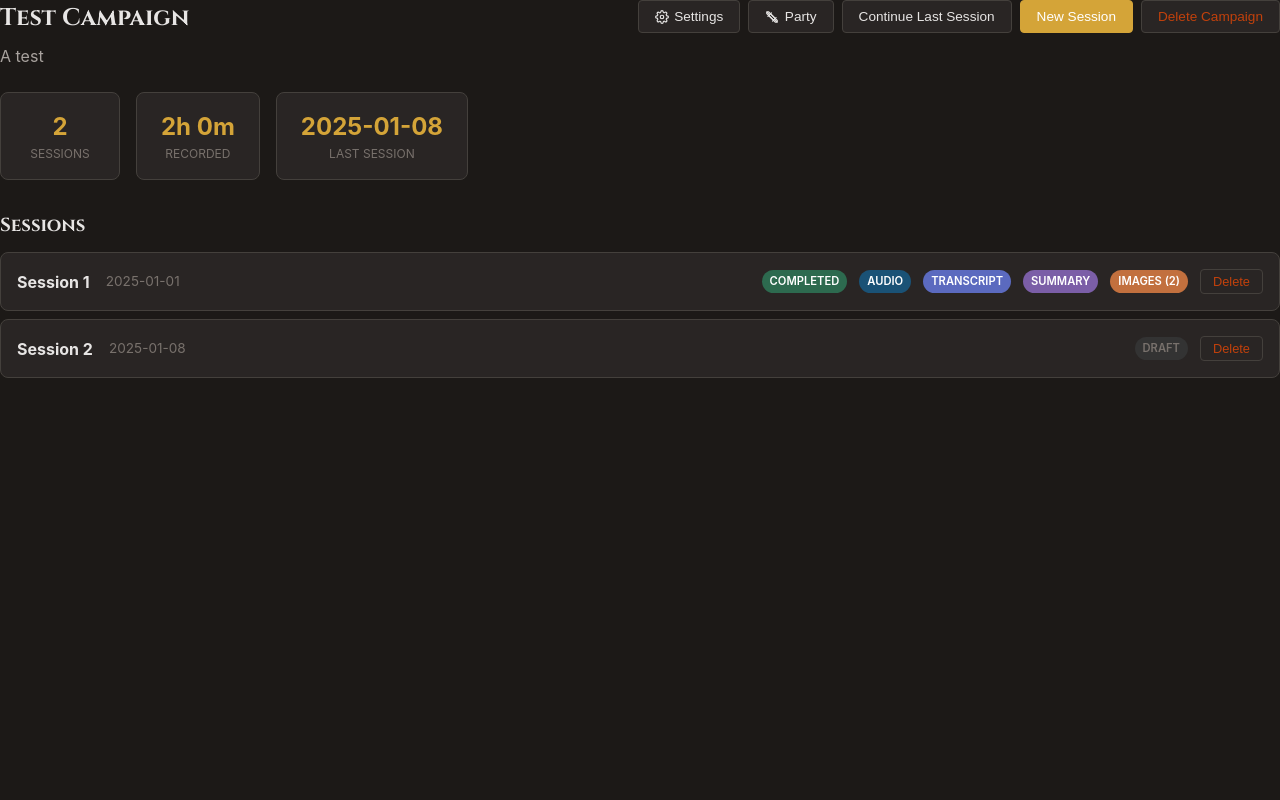
Test: CampaignDashboard › shows settings panel when Settings is clicked
Click the button "Settings". click: (689, 16)
box: 638,0 -> 740,33
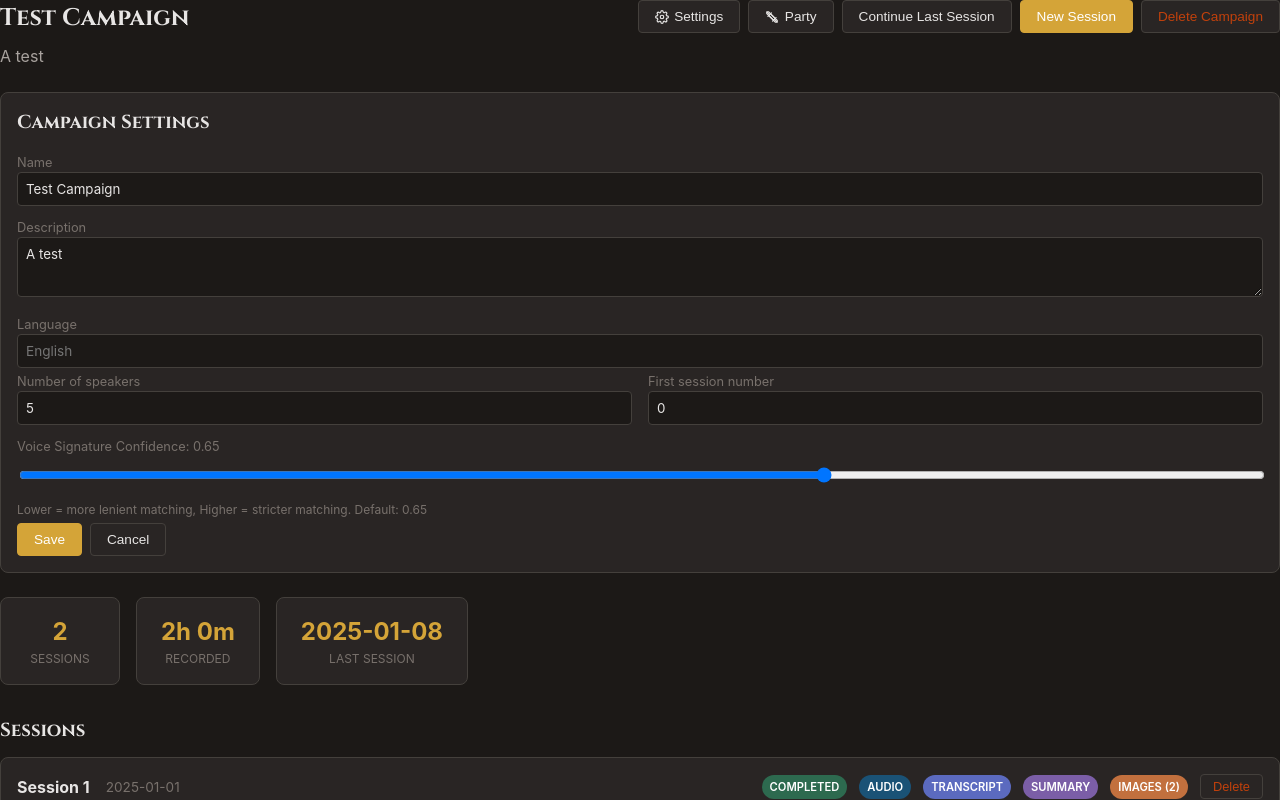
Expected: the heading "Campaign Settings" is shown, 17,110 -> 210,135
